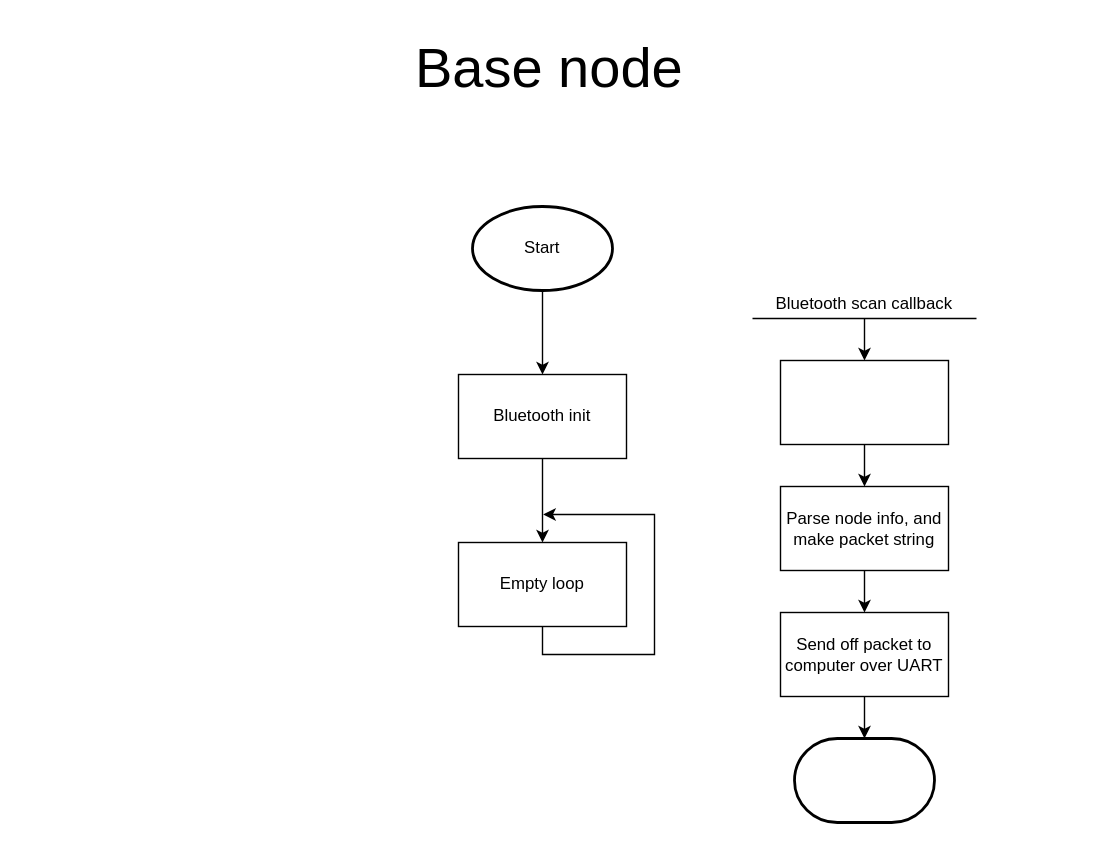
Image size: 1098x847. Some labels were removed from this diagram. Each missing label, with the centre of its shape:
Collect node info: point 863,401
End: point 863,779
